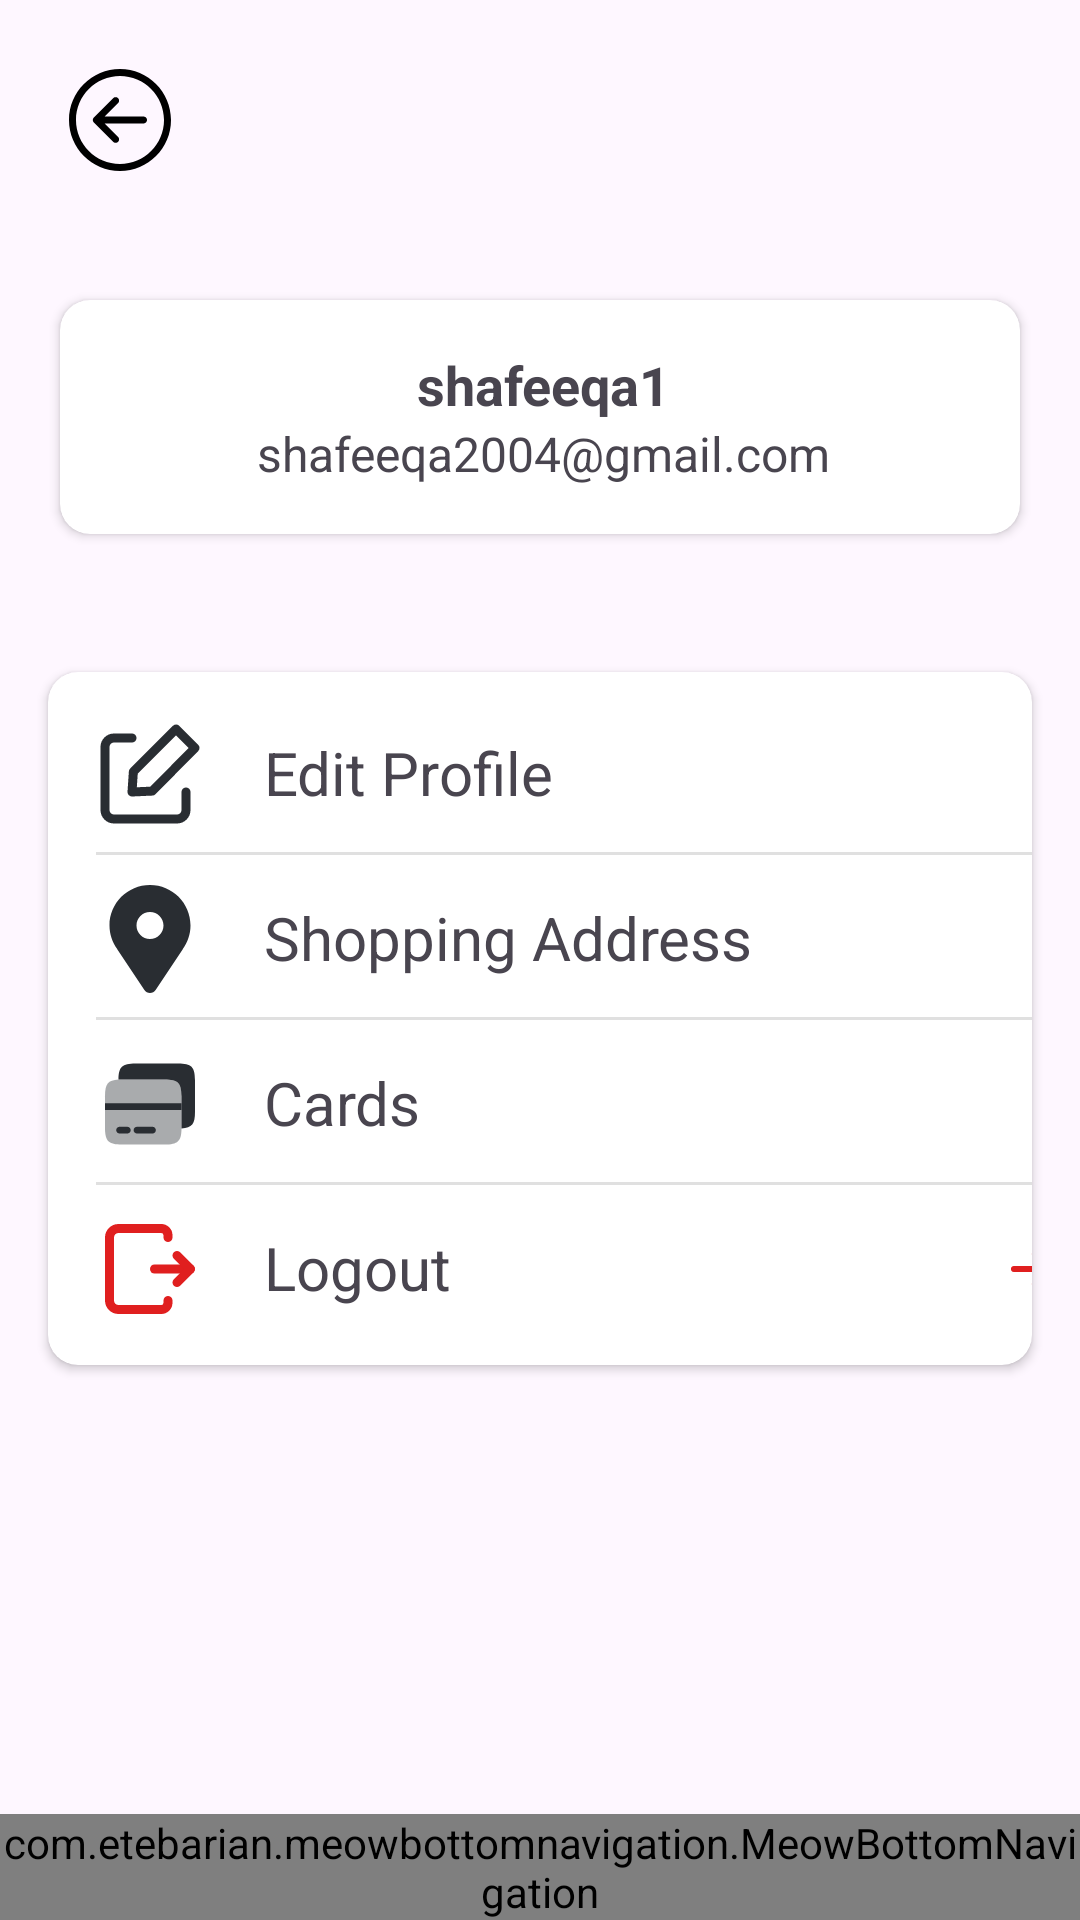

Where icons sit on this 1080px x 1920px app screen, as bbox(x1, y1, x2, y2):
back: bbox(69, 69, 171, 171)
location: bbox(109, 885, 191, 993)
